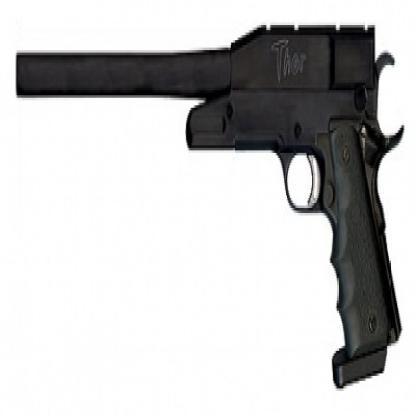Guns: (13, 10, 404, 396)
